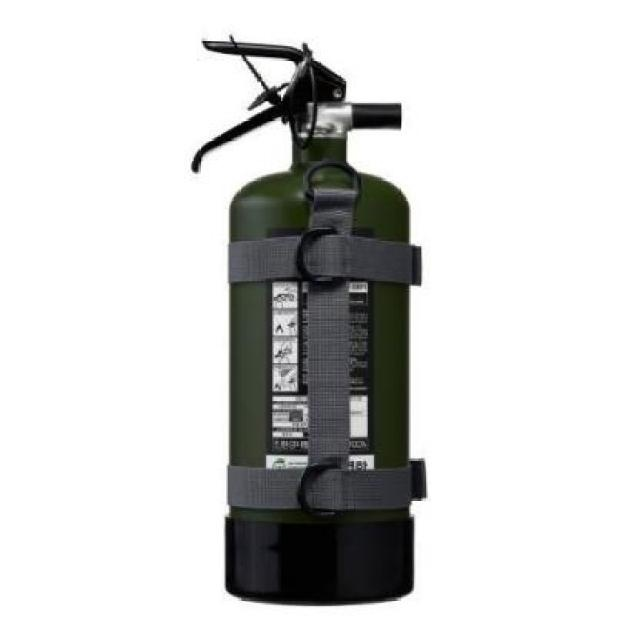fire extinguisher: (191, 39, 427, 604)
